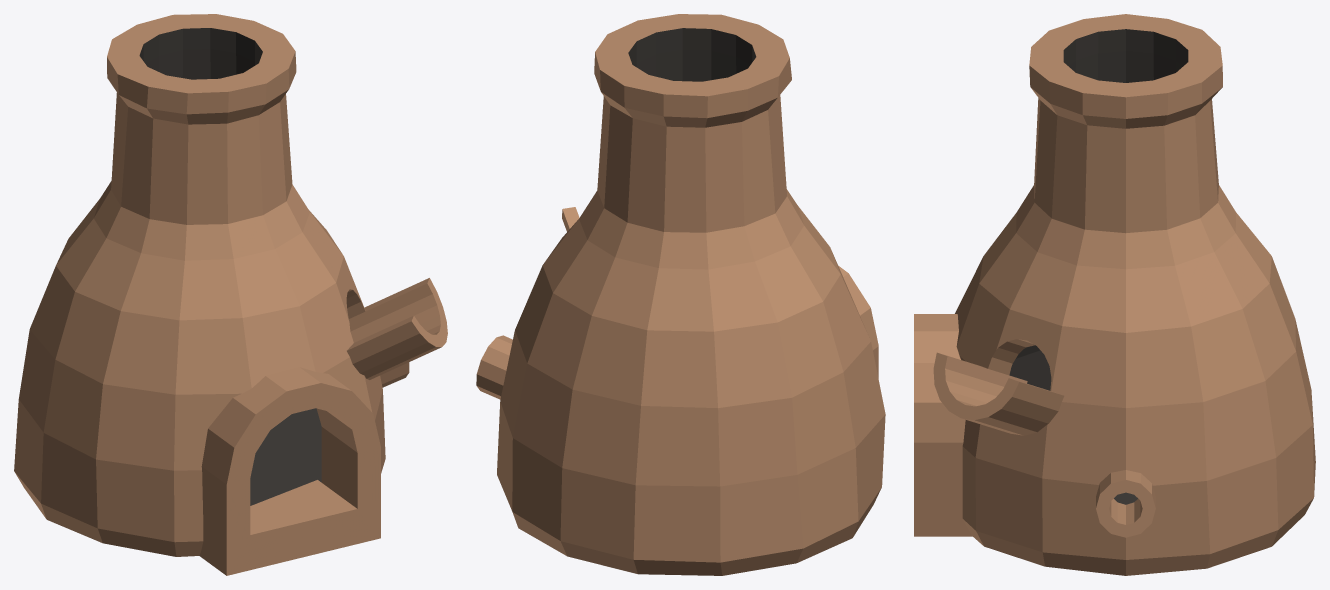
Rendered from furnace.glb.
3 views of the same model, side by side, from view 1: azimuth 30°, elevation 25°; view 2: azimuth 150°, elevation 25°; view 3: azimuth 270°, elevation 25° (orthographic). The views are drawn at different scales.
Parts seen in each view (by area): view 1: Furnace; view 2: Furnace; view 3: Furnace.
Boxes of the visible parts, bbox=[...] form: Furnace: bbox=[14, 14, 447, 575]; Furnace: bbox=[476, 14, 885, 575]; Furnace: bbox=[914, 14, 1315, 575].
Bounding box in the file's own units: 1.07 × 1.22 × 1.01.
